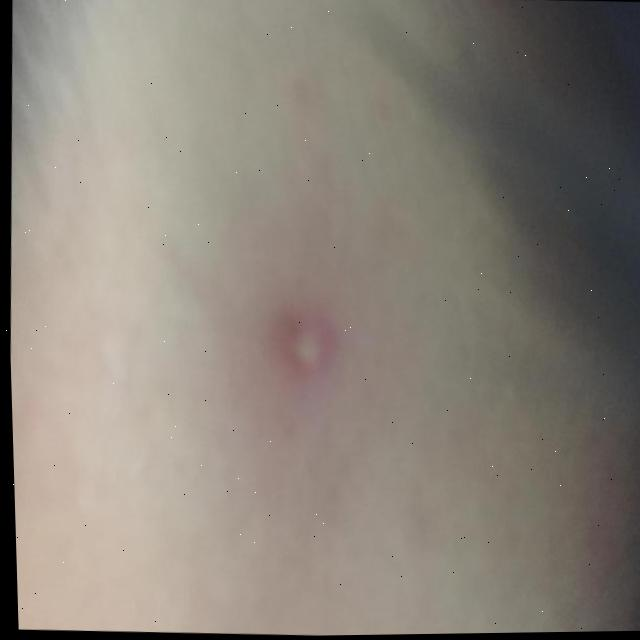Acne: (275, 330, 333, 385)
